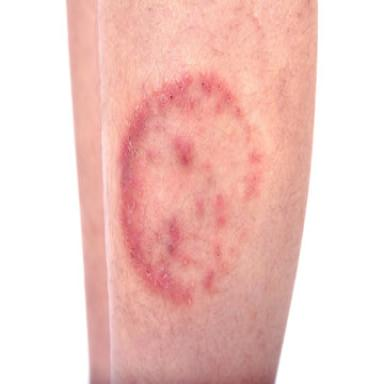Tinea-Corporis: (120, 71, 269, 307)
